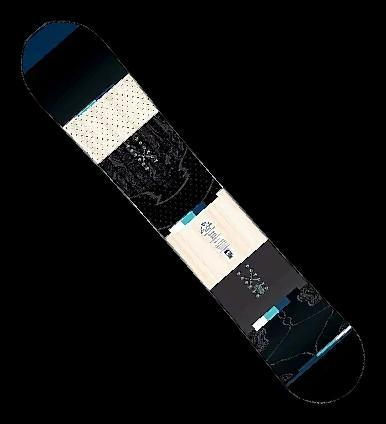Snowboard: (12, 16, 386, 420)
